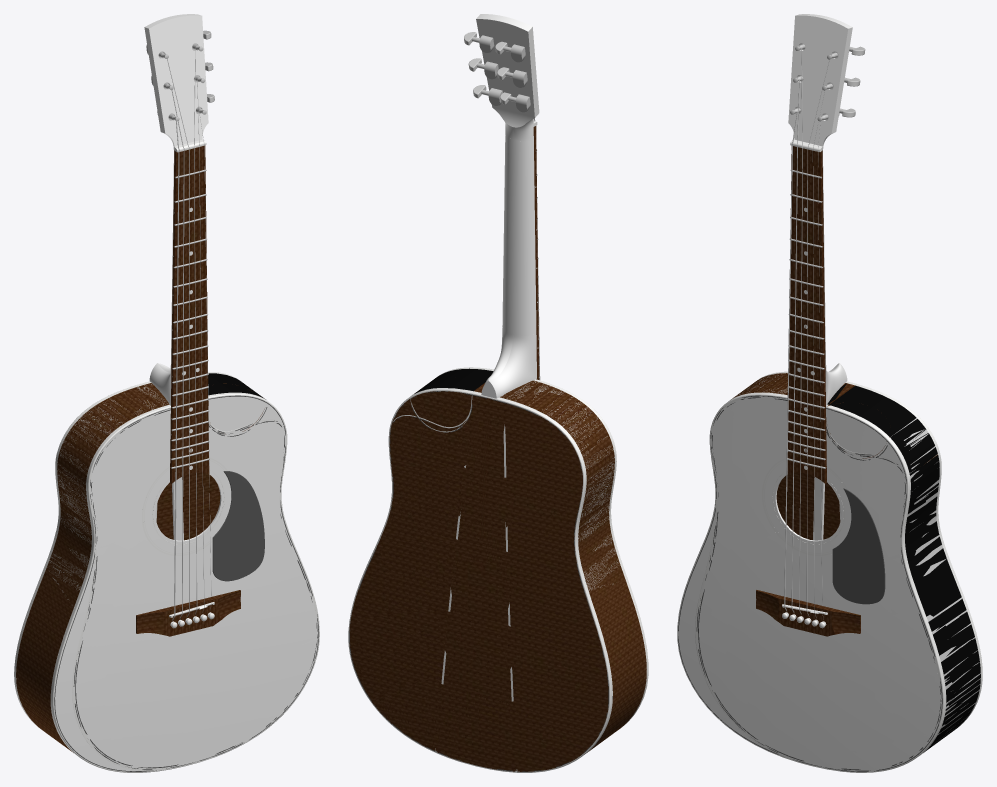
Rendered from luth-acoustic-transformed.glb.
3 views of the same model, side by side, from view 1: azimuth 30°, elevation 25°; view 2: azimuth 150°, elevation 25°; view 3: azimuth 330°, elevation 25° (orthographic).
Parts seen in each view (by area): view 1: Body_Soundboard_Arm_Bevel_Cutaway_Venetian, Body_Soundboard_Arm_Bevel, Body_Soundboard_Venetian_Cutaway, Body_Sides, Body_Sides_Arm_Bevel, Body_Fretboard, Body_Soundboard, Body_Headstock, Body_Soundboard_Florentine_Cutaway, Body_Fretboard_Soundhole_Tangent, Body_Soundboard_Arm_Bevel_Cutaway_Florentine, Body_Pickguard (+20 smaller); view 2: Body_Back, Body_Back_Three_Piece_Left, Body_Back_Venetian_Cutaway, Body_Back_Three_Piece_Right, Body_Back_Florentine_Cutaway, Body_Sides, Body_Sides_Arm_Bevel, Body_Back_Three_Piece_Venetian_Cutaway_Right, Surface_Neck_Profile, Body_Back_Two_Piece_Left, Body_Headstock, Body_Back_Three_Piece_Florentine_Cutaway_Left (+13 smaller); view 3: Body_Soundboard_Arm_Bevel_Cutaway_Venetian, Body_Soundboard_Arm_Bevel, Body_Soundboard_Venetian_Cutaway, Body_Fretboard, Body_Soundboard, Body_Headstock, Body_Soundboard_Florentine_Cutaway, Body_Fretboard_Soundhole_Tangent, Body_Soundboard_Arm_Bevel_Cutaway_Florentine, Body_Pickguard, Body_Sides_Arm_Bevel_Scalloped_Cutaway, Body_Bridge (+27 smaller).
Part boxes in pixels (bbox=[...]): Body_Soundboard_Arm_Bevel_Cutaway_Venetian: bbox=[76, 410, 316, 767]; Body_Soundboard_Arm_Bevel: bbox=[76, 396, 318, 768]; Body_Soundboard_Venetian_Cutaway: bbox=[55, 420, 317, 769]; Body_Sides: bbox=[16, 384, 168, 752]; Body_Sides_Arm_Bevel: bbox=[16, 383, 169, 748]; Body_Fretboard: bbox=[170, 147, 208, 474]; Body_Soundboard: bbox=[55, 396, 317, 771]; Body_Headstock: bbox=[144, 14, 208, 162]; Body_Soundboard_Florentine_Cutaway: bbox=[91, 415, 318, 771]; Body_Fretboard_Soundhole_Tangent: bbox=[170, 145, 209, 483]; Body_Soundboard_Arm_Bevel_Cutaway_Florentine: bbox=[76, 404, 318, 760]; Body_Pickguard: bbox=[212, 471, 264, 581]; Body_Back: bbox=[350, 392, 608, 771]; Body_Back_Three_Piece_Left: bbox=[505, 415, 608, 771]; Body_Back_Venetian_Cutaway: bbox=[350, 397, 607, 768]; Body_Back_Three_Piece_Right: bbox=[350, 391, 471, 746]; Body_Back_Florentine_Cutaway: bbox=[350, 400, 607, 770]; Body_Sides: bbox=[503, 381, 646, 750]; Body_Sides_Arm_Bevel: bbox=[500, 380, 646, 750]; Body_Back_Three_Piece_Venetian_Cutaway_Right: bbox=[354, 416, 466, 751]; Surface_Neck_Profile: bbox=[502, 135, 536, 335]; Body_Back_Two_Piece_Left: bbox=[477, 398, 607, 771]; Body_Headstock: bbox=[476, 14, 539, 141]; Body_Back_Three_Piece_Florentine_Cutaway_Left: bbox=[514, 438, 607, 771]; Body_Soundboard_Arm_Bevel_Cutaway_Venetian: bbox=[699, 398, 940, 769]; Body_Soundboard_Arm_Bevel: bbox=[698, 396, 941, 770]; Body_Soundboard_Venetian_Cutaway: bbox=[679, 397, 941, 770]; Body_Fretboard: bbox=[787, 147, 826, 474]; Body_Soundboard: bbox=[678, 396, 941, 768]; Body_Headstock: bbox=[788, 14, 852, 162]; Body_Soundboard_Florentine_Cutaway: bbox=[712, 414, 941, 770]; Body_Fretboard_Soundhole_Tangent: bbox=[787, 146, 826, 483]; Body_Soundboard_Arm_Bevel_Cutaway_Florentine: bbox=[701, 435, 941, 770]; Body_Pickguard: bbox=[832, 488, 885, 604]; Body_Sides_Arm_Bevel_Scalloped_Cutaway: bbox=[834, 383, 980, 750]; Body_Bridge: bbox=[756, 590, 860, 636].
Size of the model in its own units: 0.3917 by 1.04 by 0.1269.
Materials: 255 (35 with a texture image).
